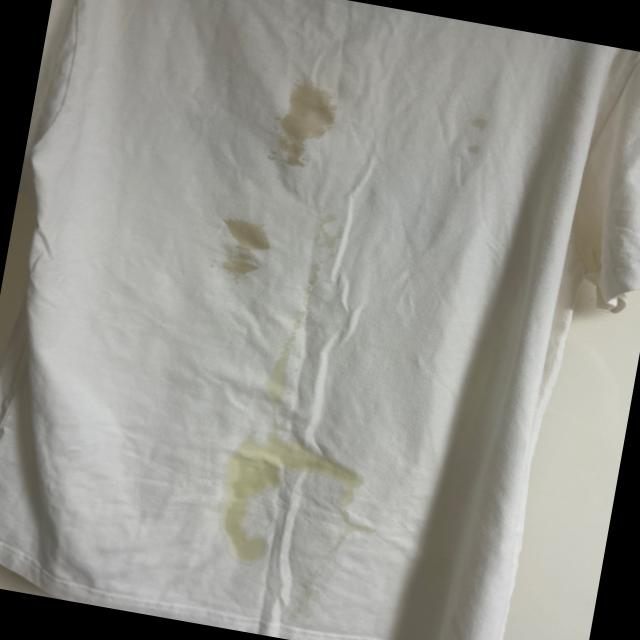stain: (222, 418, 362, 491), (208, 467, 282, 558), (266, 80, 332, 170), (218, 213, 272, 284), (303, 205, 360, 268), (260, 327, 296, 411), (318, 472, 371, 514), (456, 114, 495, 160)
